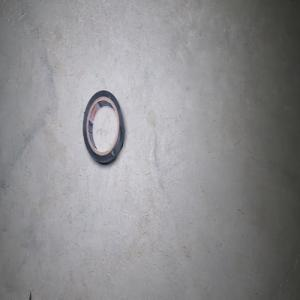Tape: (82, 90, 125, 164)
